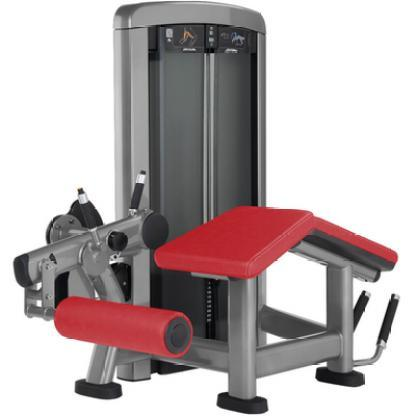reg curl machine: (11, 0, 403, 416)
